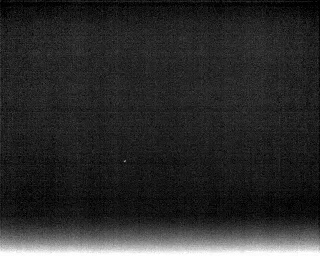AIRPLANE: (121, 157, 129, 165)
